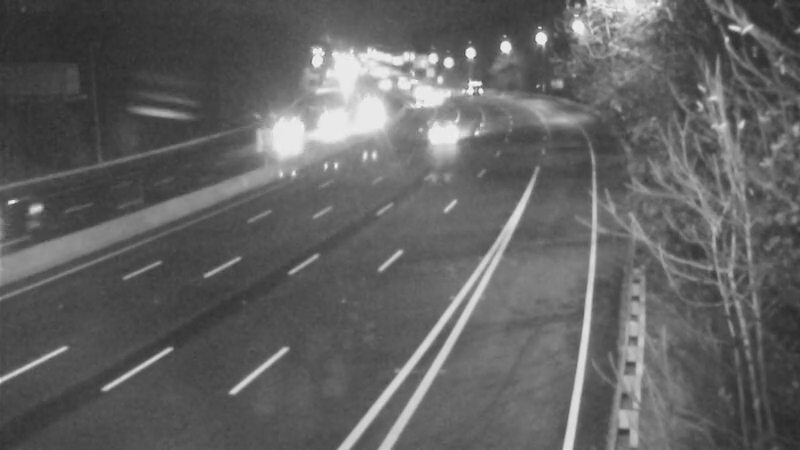vehicle: (1, 174, 74, 254), (443, 61, 493, 111), (398, 67, 448, 117), (405, 73, 455, 123), (393, 77, 443, 127), (416, 106, 466, 156), (267, 103, 317, 153), (300, 100, 350, 150), (347, 78, 397, 128)
